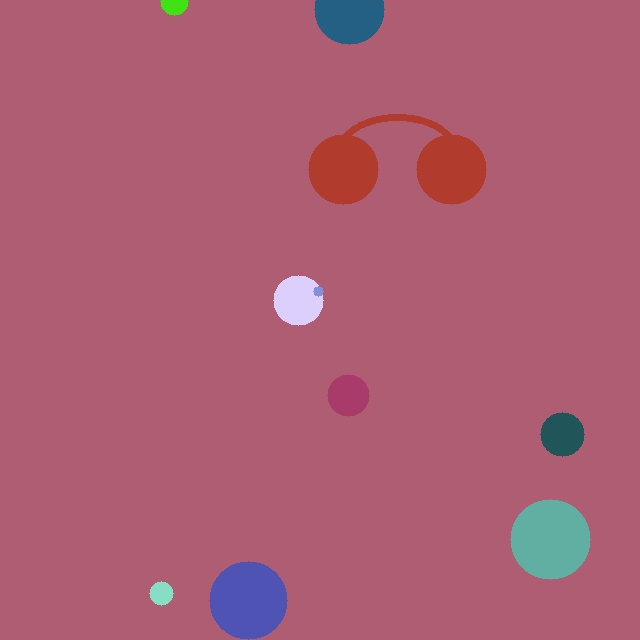over_ear: (304, 99, 490, 208)
